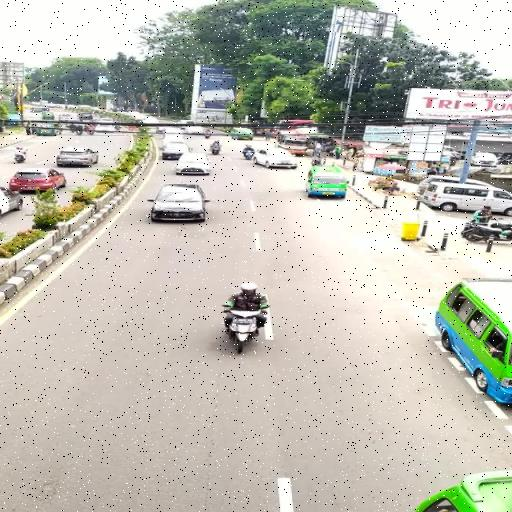Helmet: (242, 278, 260, 300)
Motor: (222, 313, 262, 355)
